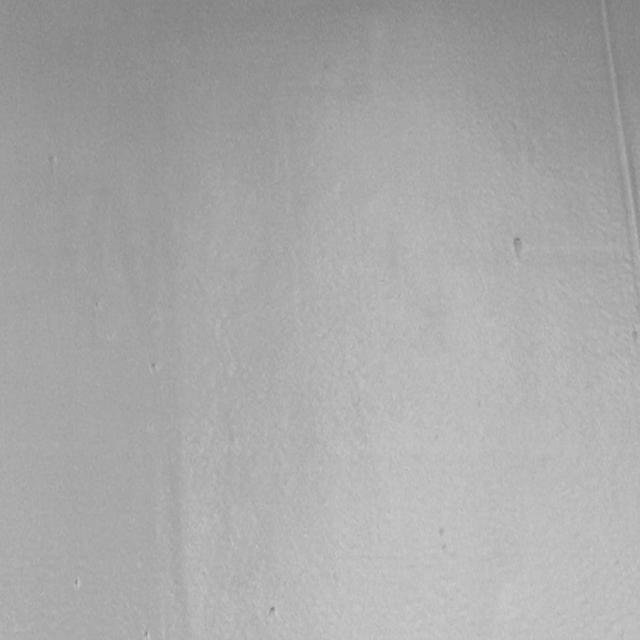pin holes: (508, 236, 531, 264), (266, 605, 280, 623), (149, 360, 162, 377), (71, 576, 83, 592), (140, 628, 152, 639)
